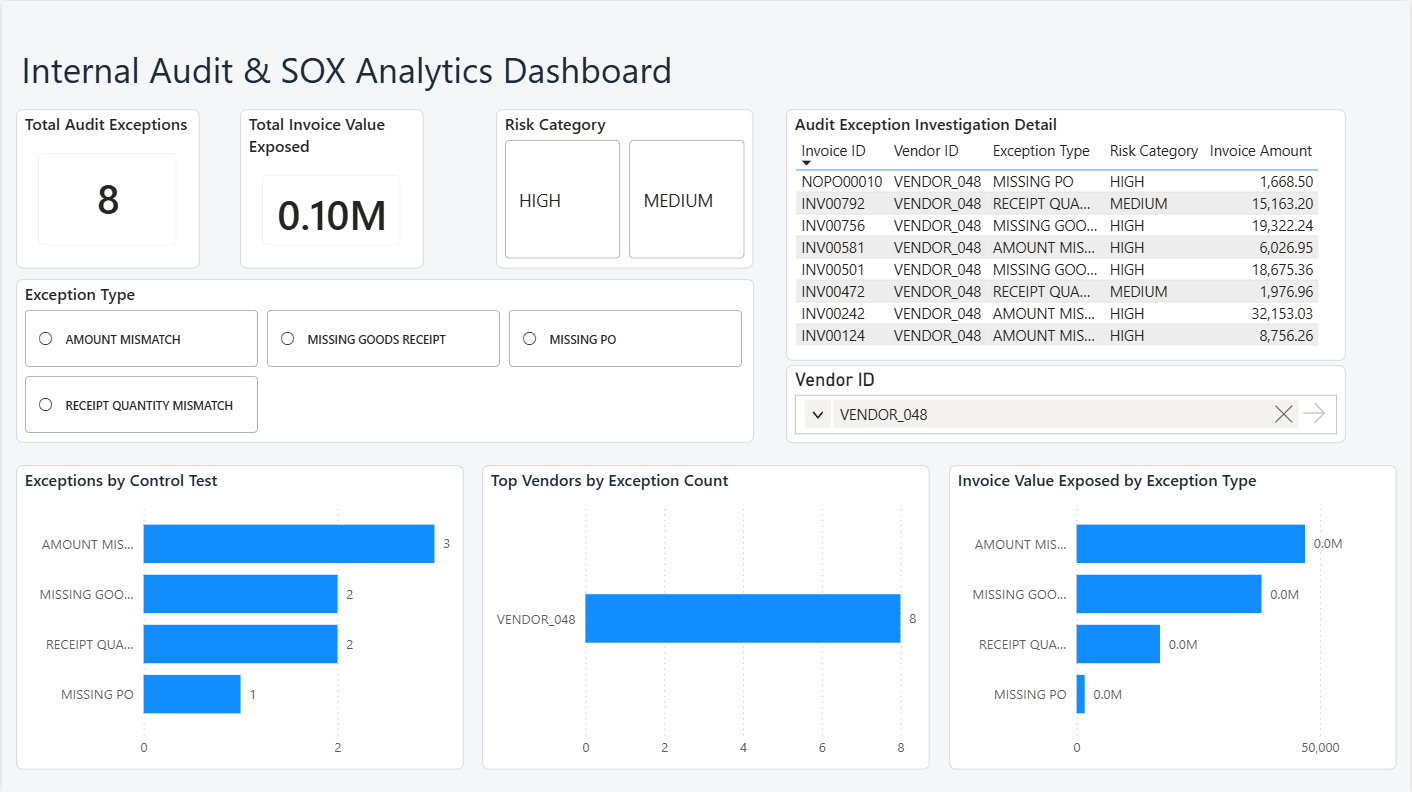

The page's visual inventory and layout, read from the dashboard file:
{"tool":"powerbi","page":{"name":"Page 1","canvas":[1280,720],"ordinal":0},"visuals":[{"type":"cardVisual","title":"Total Audit Exceptions","fields":{"Data":["CountNonNull(public audit_exception_summary.invoice_id)"]},"box":[12.3,98.3,166.8,144.9],"z":0},{"type":"cardVisual","title":"Total Invoice Value Exposed","fields":{"Data":["Sum(public audit_exception_summary.invoice_amount)"]},"box":[216,98.3,166.8,144.9],"z":1000},{"type":"clusteredBarChart","title":"Exceptions by Control Test","fields":{"Category":["public audit_exception_summary.exception_type"],"Y":["CountNonNull(public audit_exception_summary.invoice_id)"]},"box":[12.3,421.5,407.4,277.5],"z":2000},{"type":"clusteredBarChart","title":"Top Vendors by Exception Count","fields":{"Category":["public audit_exception_summary.vendor_id"],"Y":["CountNonNull(public audit_exception_summary.invoice_id)"]},"box":[436.4,421.5,407.4,277.5],"z":3000},{"type":"clusteredBarChart","title":"Invoice Value Exposed by Exception Type","fields":{"Category":["public audit_exception_summary.exception_type"],"Y":["Sum(public audit_exception_summary.invoice_amount)"]},"box":[860.5,421.5,407.4,277.5],"z":4000},{"type":"tableEx","title":"Audit Exception Investigation Detail","fields":{"Values":["public audit_exception_summary.invoice_id","public audit_exception_summary.vendor_id","public audit_exception_summary.exception_type","public audit_exception_summary.risk_category","public audit_exception_summary.invoice_amount"]},"box":[713,98.3,509.3,229.2],"z":5000},{"type":"textbox","box":[12.3,34.2,616.4,64.1],"z":6000},{"type":"advancedSlicerVisual","title":"Exception Type","fields":{"Values":["public audit_exception_summary.exception_type"]},"box":[12.3,252.9,670.8,149.3],"z":7000},{"type":"advancedSlicerVisual","title":"Risk Category","fields":{"Values":["public audit_exception_summary.risk_category"]},"box":[448.7,98.3,234.4,144.9],"z":8000},{"type":"textSlicer","title":"Vendor ID","fields":{"Values":["public audit_exception_summary.vendor_id"]},"box":[713,331,509.3,71.1],"z":8001}]}

Visuals, with their boxes in screenshot pixels (x1, y1, x2, y2), scaled from the page's 1280x720 canvas onto the 1412x792 screenshot:
"Total Audit Exceptions" cardVisual: 14:108:198:268
"Total Invoice Value Exposed" cardVisual: 238:108:422:268
"Exceptions by Control Test" clusteredBarChart: 14:464:463:769
"Top Vendors by Exception Count" clusteredBarChart: 481:464:931:769
"Invoice Value Exposed by Exception Type" clusteredBarChart: 949:464:1399:769
"Audit Exception Investigation Detail" tableEx: 787:108:1348:360
textbox: 14:38:694:108
"Exception Type" advancedSlicerVisual: 14:278:754:442
"Risk Category" advancedSlicerVisual: 495:108:754:268
"Vendor ID" textSlicer: 787:364:1348:442
